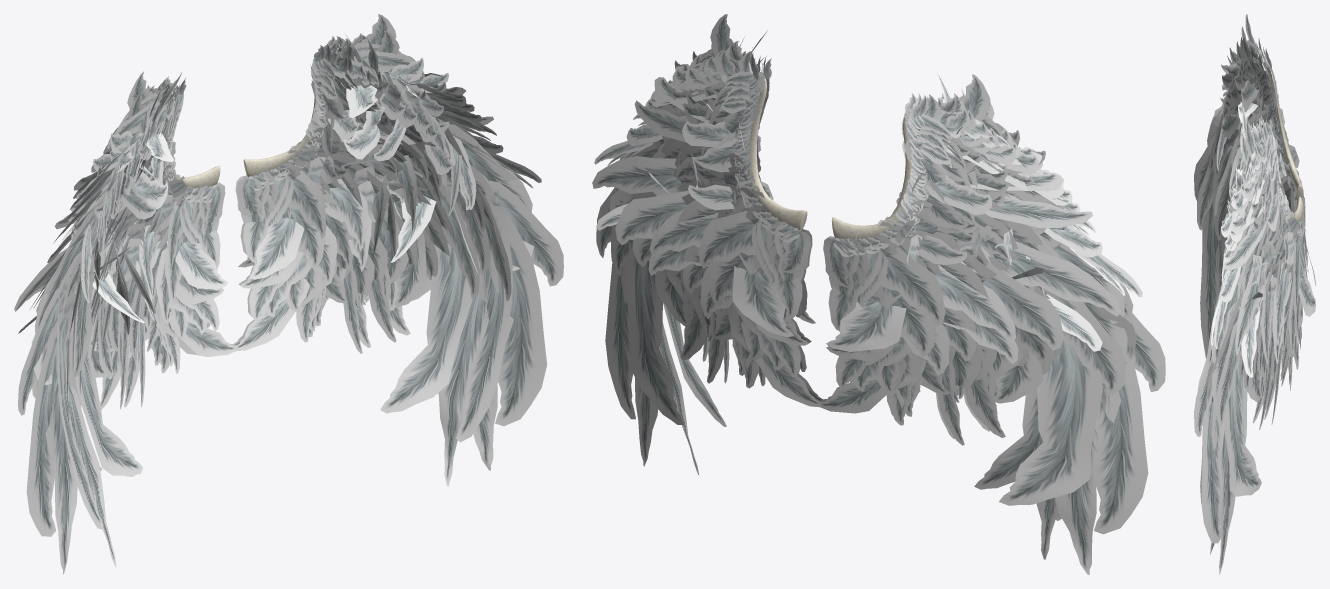
Rendered from wings.glb.
The picture shows the model from 3 angles, left to right: view 1: azimuth 30°, elevation 25°; view 2: azimuth 150°, elevation 25°; view 3: azimuth 270°, elevation 25°; orthographic projection. The views are drawn at different scales.
Parts seen in each view (by area): view 1: polySurface2193; view 2: polySurface2193; view 3: polySurface2193.
Boxes of the visible parts, left/top/right/bottom form: polySurface2193: left=14, top=14, right=563, bottom=574; polySurface2193: left=592, top=14, right=1165, bottom=574; polySurface2193: left=1194, top=14, right=1315, bottom=574.
Bounding box in the file's own units: 2.63 × 2.16 × 0.5714.
Materials: 2 (2 with a texture image).
